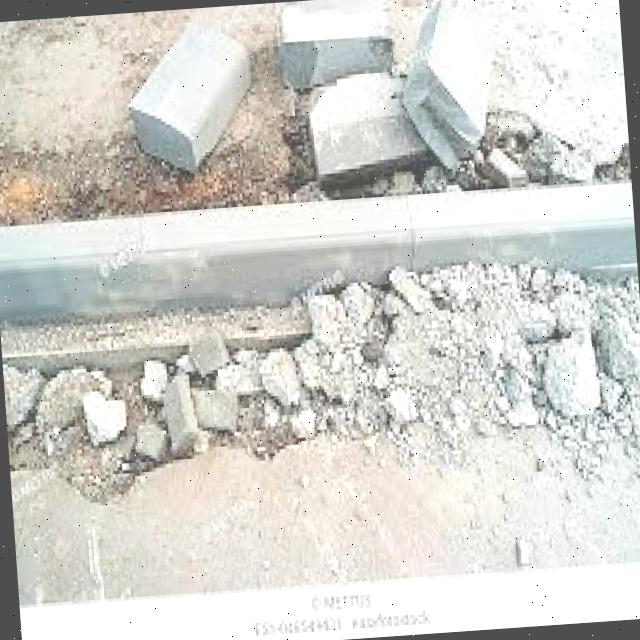curb: (3, 199, 416, 301), (410, 182, 630, 283)
